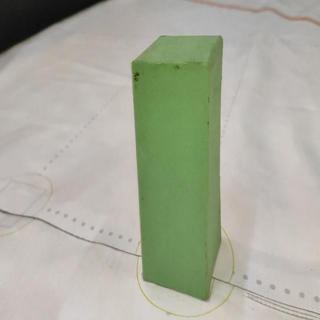greenbox: (133, 34, 222, 299)
